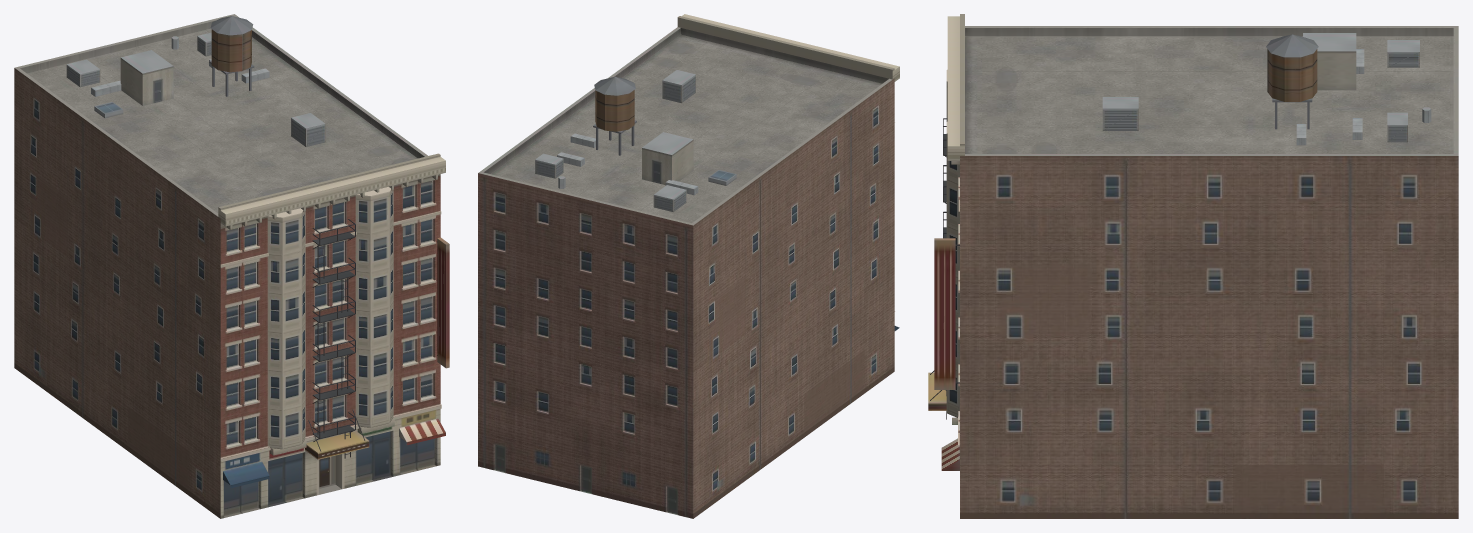
The model's file is sf_brick_d.glb.
3 renders of one model, left to right at view 1: azimuth 30°, elevation 25°; view 2: azimuth 150°, elevation 25°; view 3: azimuth 270°, elevation 25°, orthographic. The views are drawn at different scales.
Parts seen in each view (by area): view 1: sf_brick_d; view 2: sf_brick_d; view 3: sf_brick_d.
Boxes of the visible parts, x1,y1,x2,y2 form: sf_brick_d: (14, 14, 449, 518); sf_brick_d: (478, 14, 899, 518); sf_brick_d: (928, 14, 1458, 518).
Bounding box in the file's own units: 18.5 × 29.38 × 31.9.
Materials: 1 (1 with a texture image).
